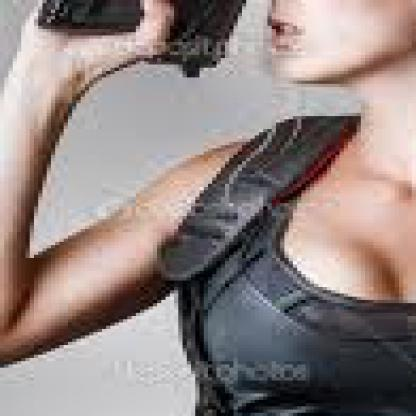gun: (30, 0, 293, 71)
